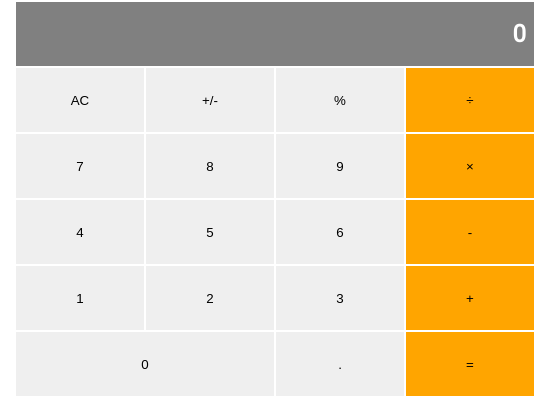
Test: Calculator component tests: › Perform an operation and display its result - test multiplication 9x10 = 90
Click the button "9".
click(340, 166)  # box x1=276 y1=134 x2=404 y2=198
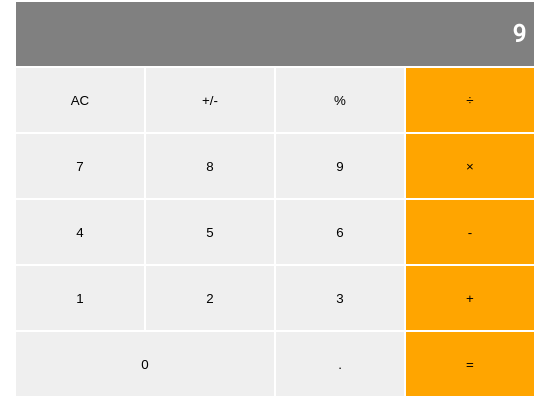
Click the button "×".
click(470, 166)  # box x1=406 y1=134 x2=534 y2=198
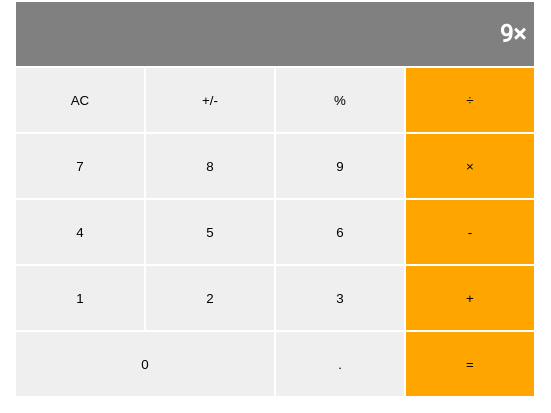
Click the button "1".
click(80, 298)  # box x1=16 y1=266 x2=144 y2=330
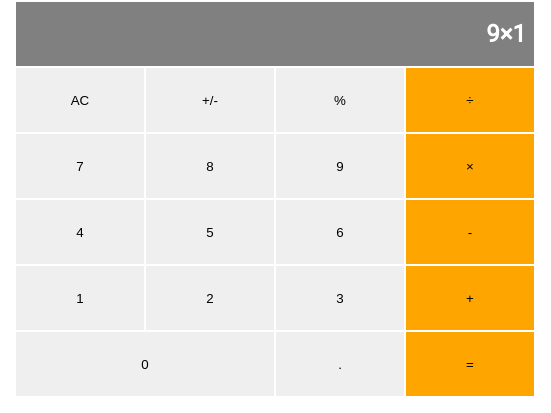
Click the button "0".
click(145, 364)  # box x1=16 y1=332 x2=274 y2=396
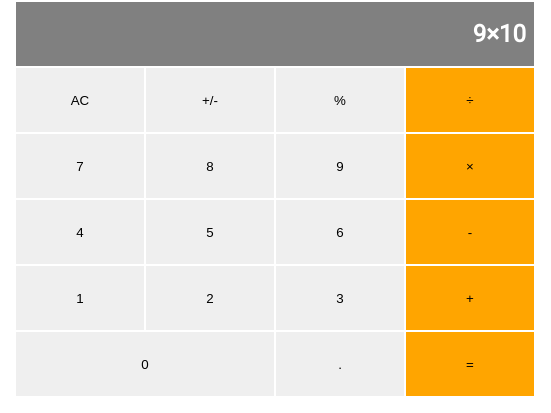
Click the button "=".
click(470, 364)  # box x1=406 y1=332 x2=534 y2=396
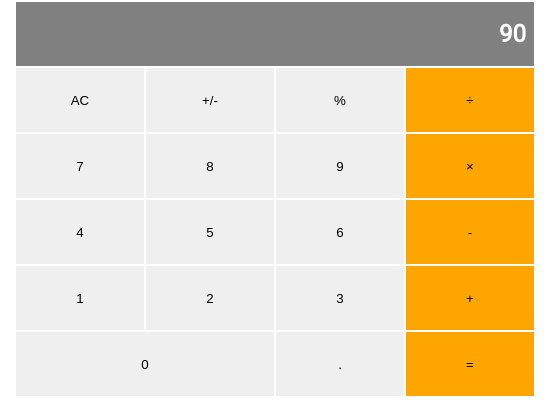
expect the cell with class "result" reads "90": met, box x1=499 y1=20 x2=526 y2=48
